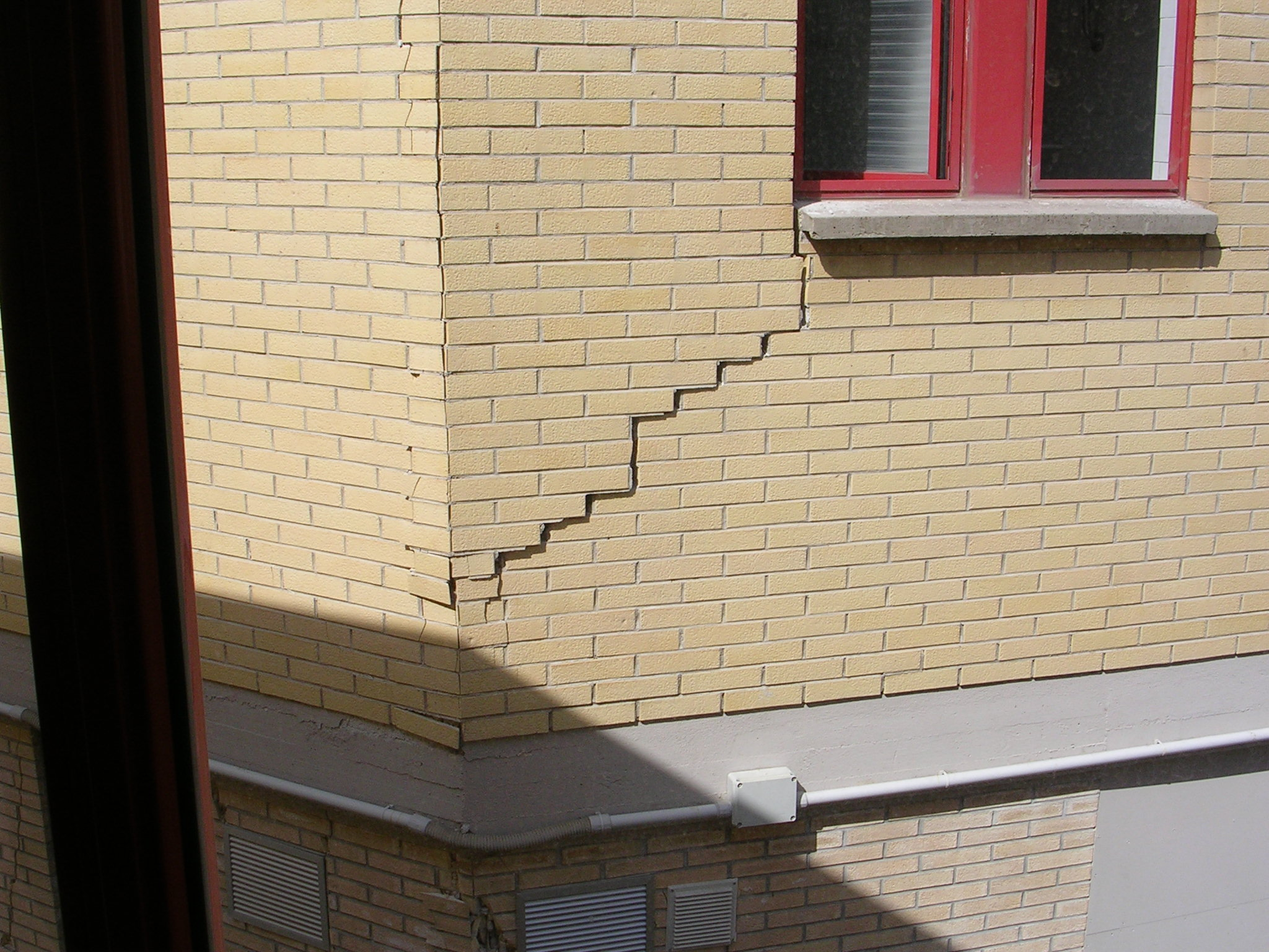Crack: (407, 196, 807, 650)
